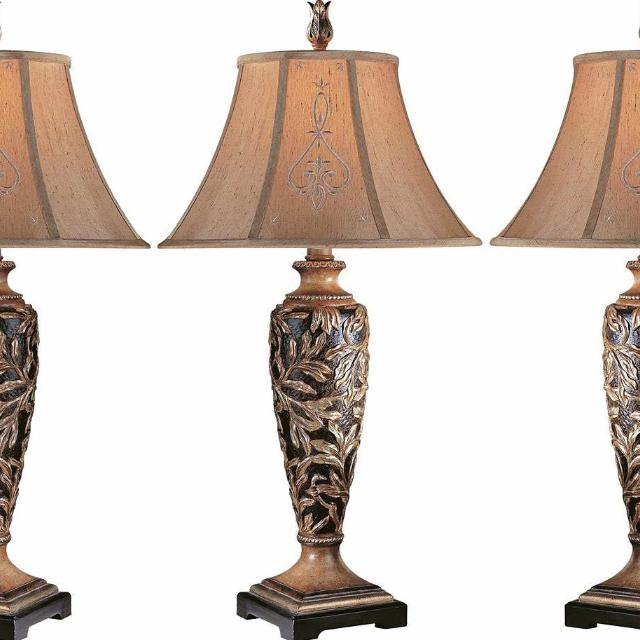lamp: (161, 13, 481, 640), (489, 51, 640, 632), (0, 50, 145, 640)
